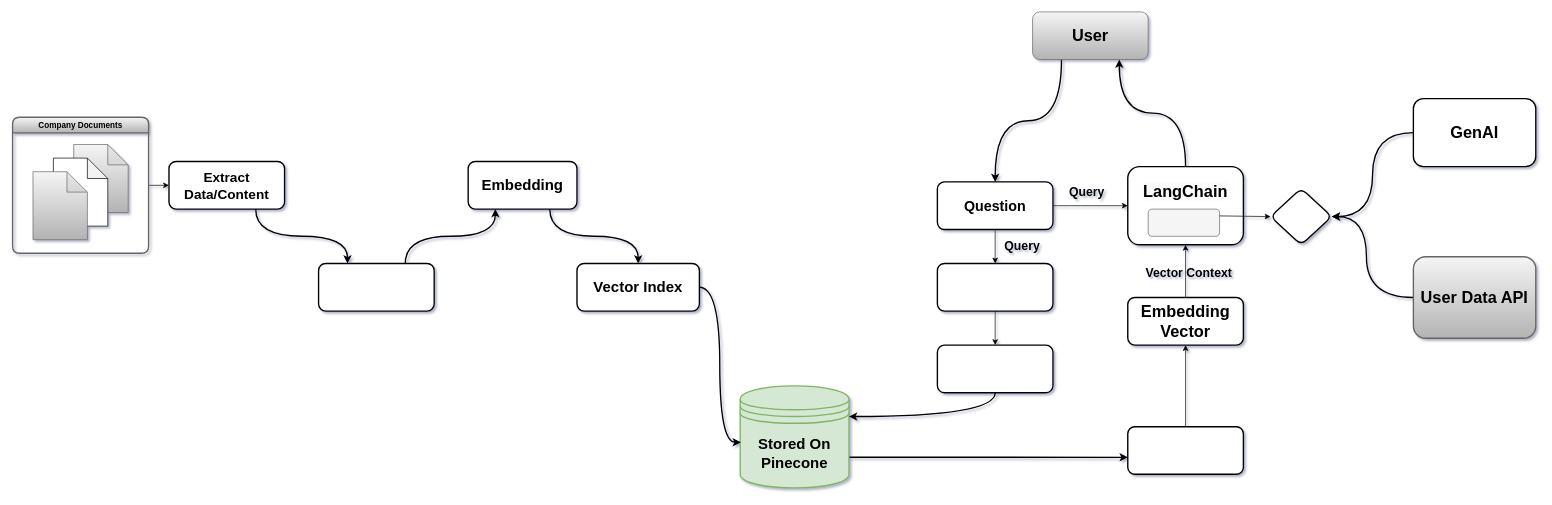
Some shapes in this 1552 by 505 pixel diagram are drawn without their labels. The shapes that lost their labels are listed below. From the top down, each one's centre as x and y in pixels, then its label:
At (1184,222): "LangChain Agent".
At (376,286): "Chunking".
At (994,286): "Query Embedding".
At (994,368): "Semantic Search".
At (1185,450): "Ranked Results".
